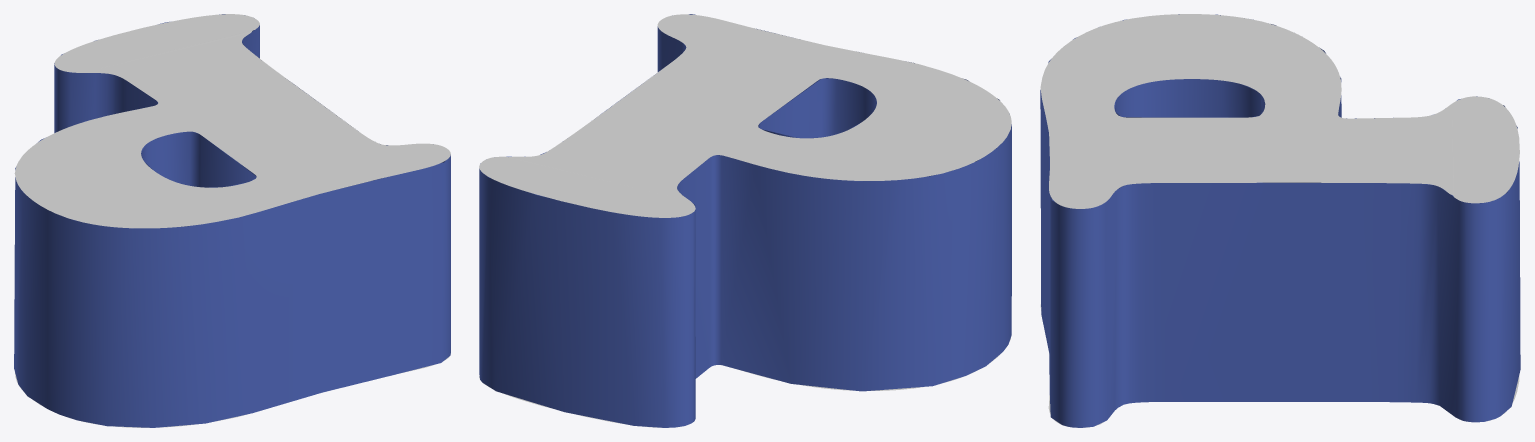
The picture shows the model from 3 angles, left to right: view 1: azimuth 30°, elevation 25°; view 2: azimuth 150°, elevation 25°; view 3: azimuth 270°, elevation 25°; orthographic projection. The views are drawn at different scales.
Parts seen in each view (by area): view 1: P; view 2: P; view 3: P.
Part boxes in pixels (<box>): P: <box>14,14,450,427</box>; P: <box>479,14,1011,427</box>; P: <box>1040,14,1520,427</box>.
Size of the model in its own units: 1.41 by 0.7362 by 1.46.
